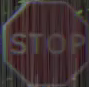Stop: (6, 8, 84, 71)
